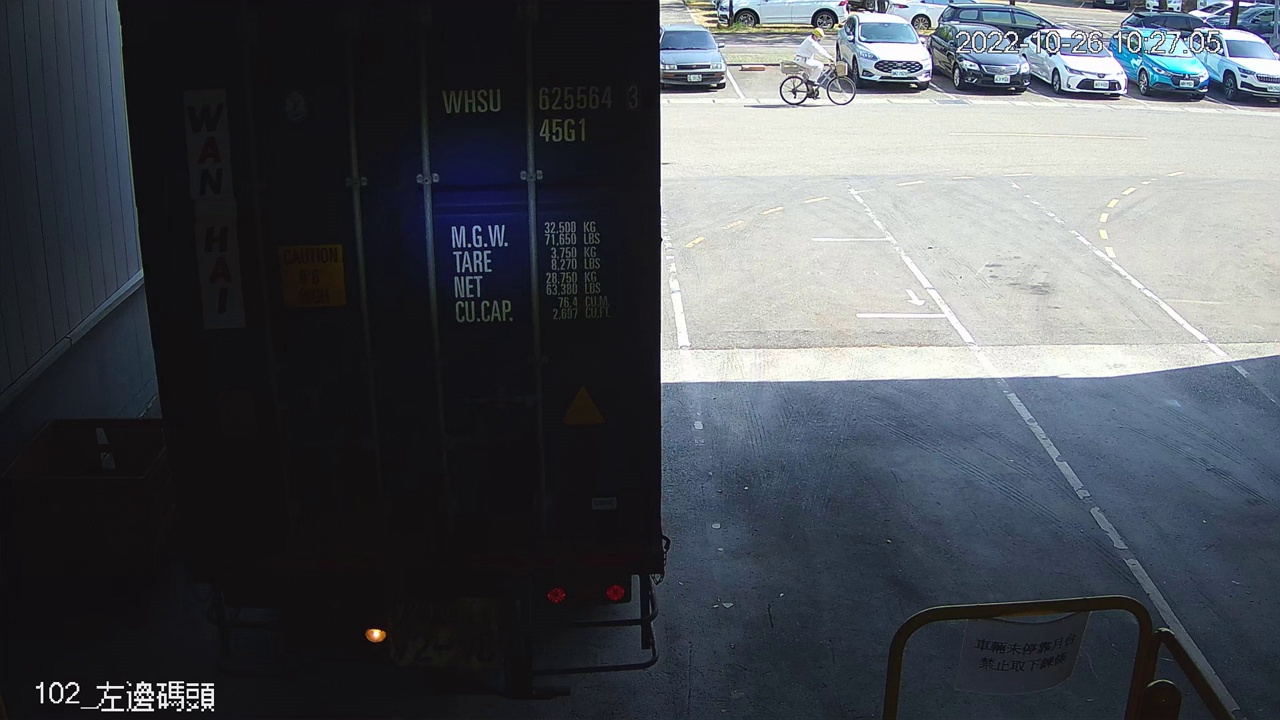container: (433, 74, 646, 150)
